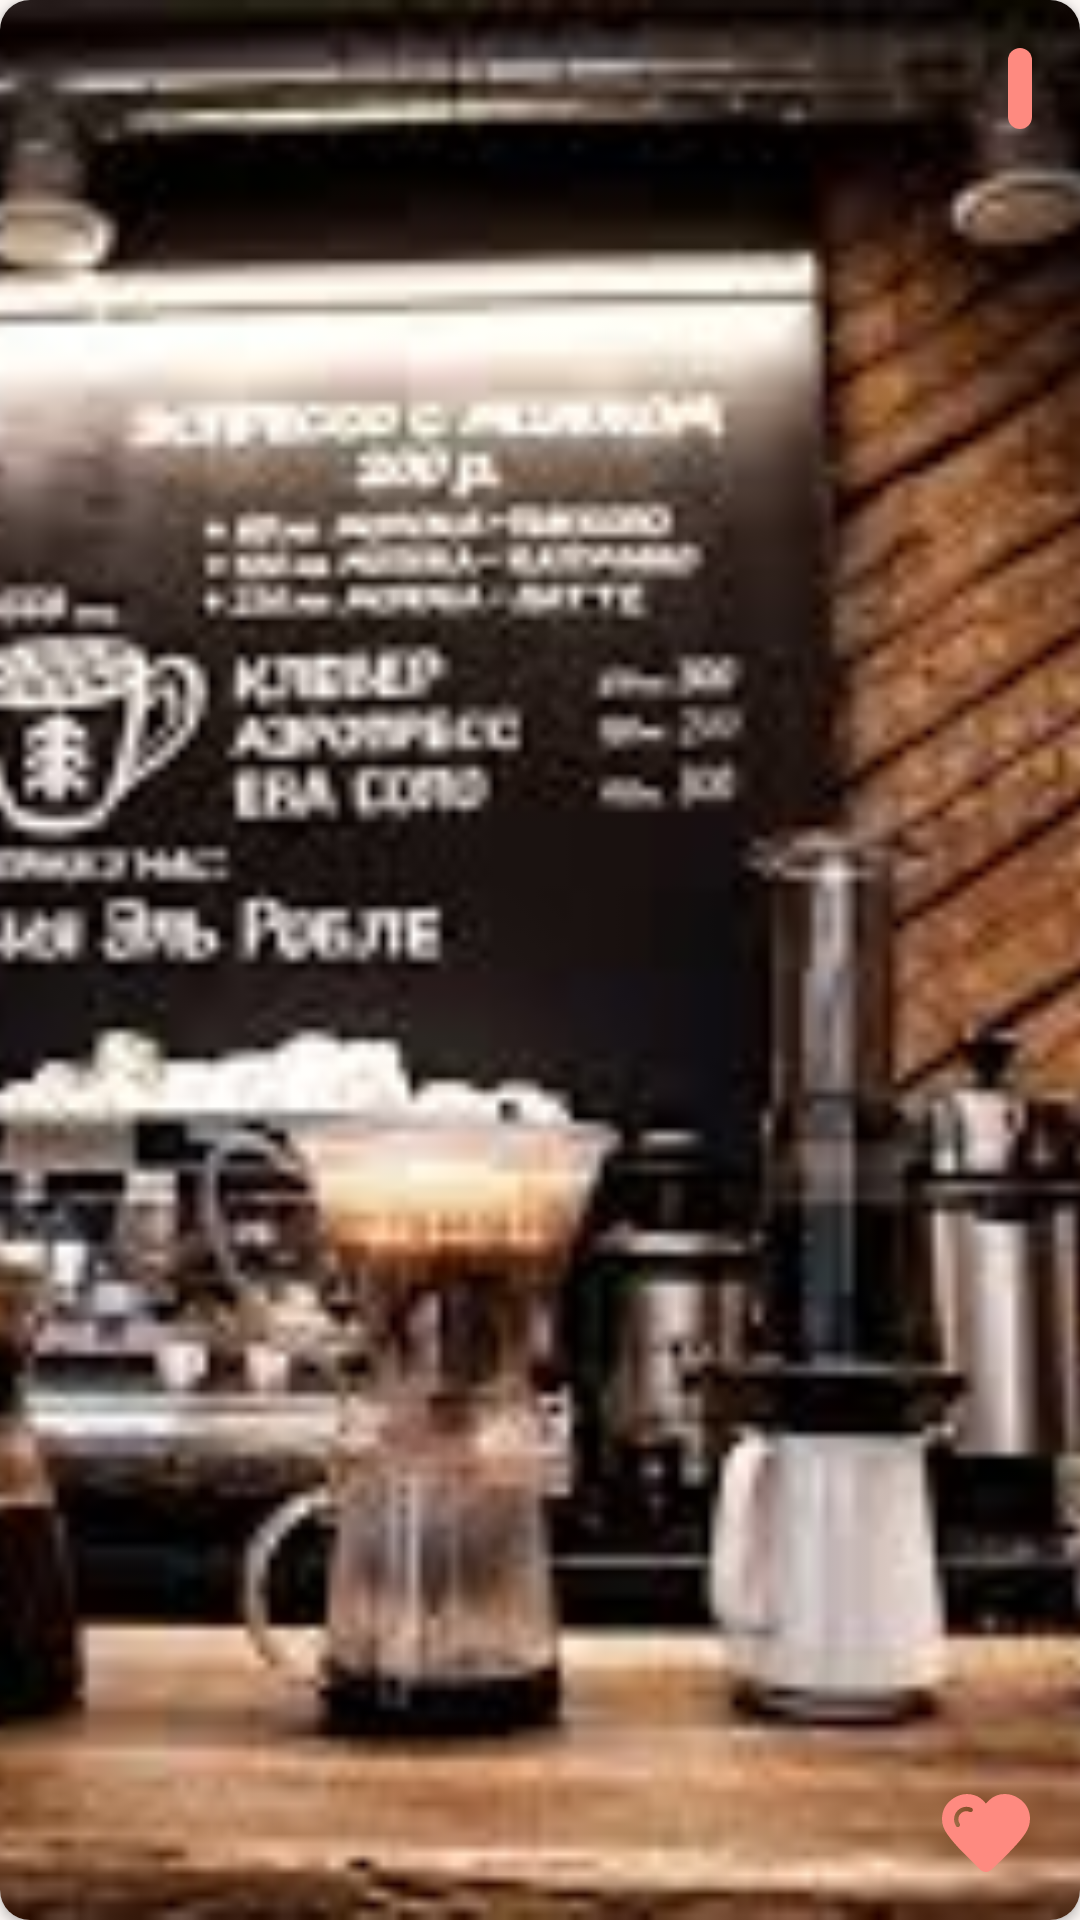

Icons on this 1080*1920 Android screen, each with its box as {"x1": x1, "y1": y1, "x2": x2, "y2": y2}:
heart: {"x1": 942, "y1": 1794, "x2": 1032, "y2": 1872}
